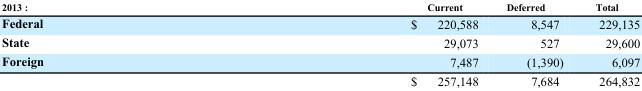table: (0, 0, 639, 87)
table column: (226, 0, 491, 87), (0, 0, 226, 87), (491, 0, 578, 87), (578, 0, 639, 87)
table column header: (0, 0, 639, 13)
table row: (0, 51, 639, 71), (0, 13, 639, 32), (0, 32, 639, 51), (0, 71, 639, 87), (0, 0, 639, 13)
